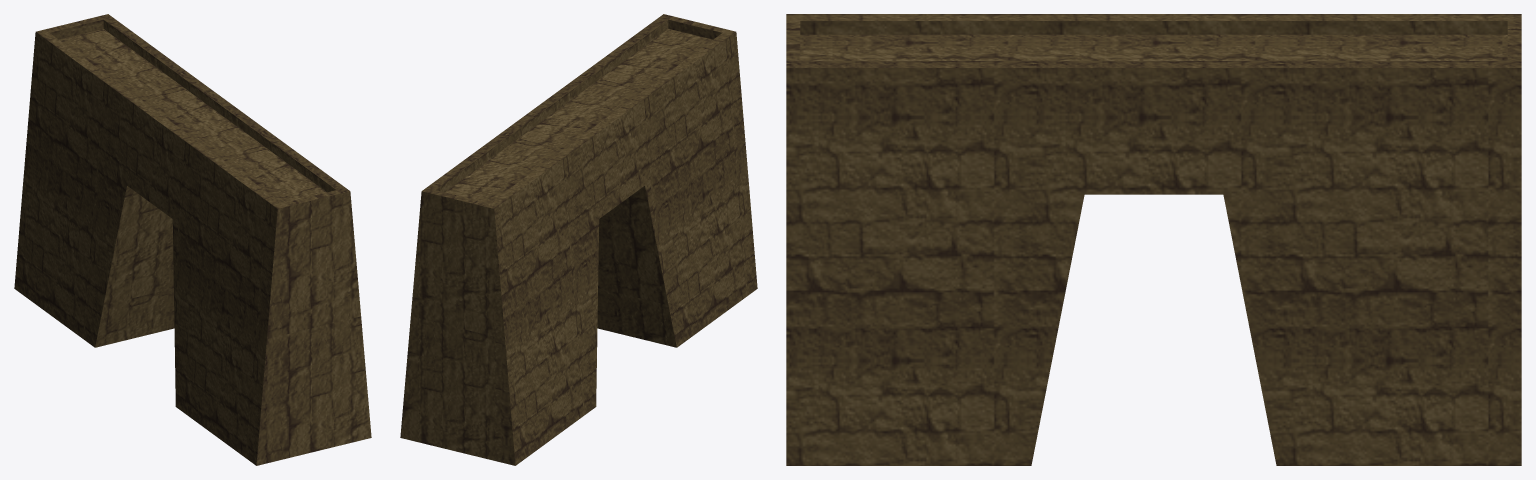
The model's file is Aztec Gate.obj.
The picture shows the model from 3 angles, left to right: view 1: azimuth 30°, elevation 25°; view 2: azimuth 150°, elevation 25°; view 3: azimuth 270°, elevation 25°; orthographic projection. The views are drawn at different scales.
Visible parts, largest first — view 1: Cube.001; view 2: Cube.001; view 3: Cube.001.
Part boxes in pixels (box(x1,y1,x2,y2)): Cube.001: box(14, 14, 371, 465); Cube.001: box(400, 14, 757, 465); Cube.001: box(786, 14, 1521, 465).
Bounding box in the file's own units: 0.2802 × 0.5858 × 1.02.
1 material, 1 textured.
